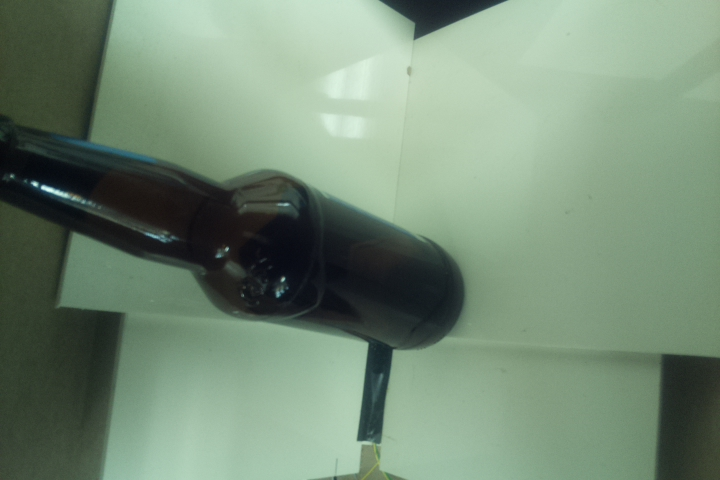makju: (1, 112, 466, 355)
